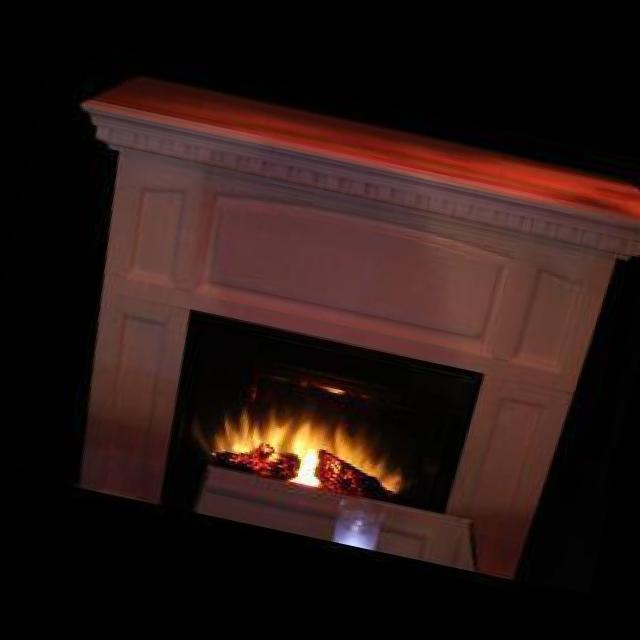Fire: (188, 378, 427, 507)
